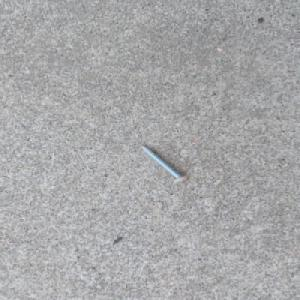Screw: (138, 144, 189, 182)
